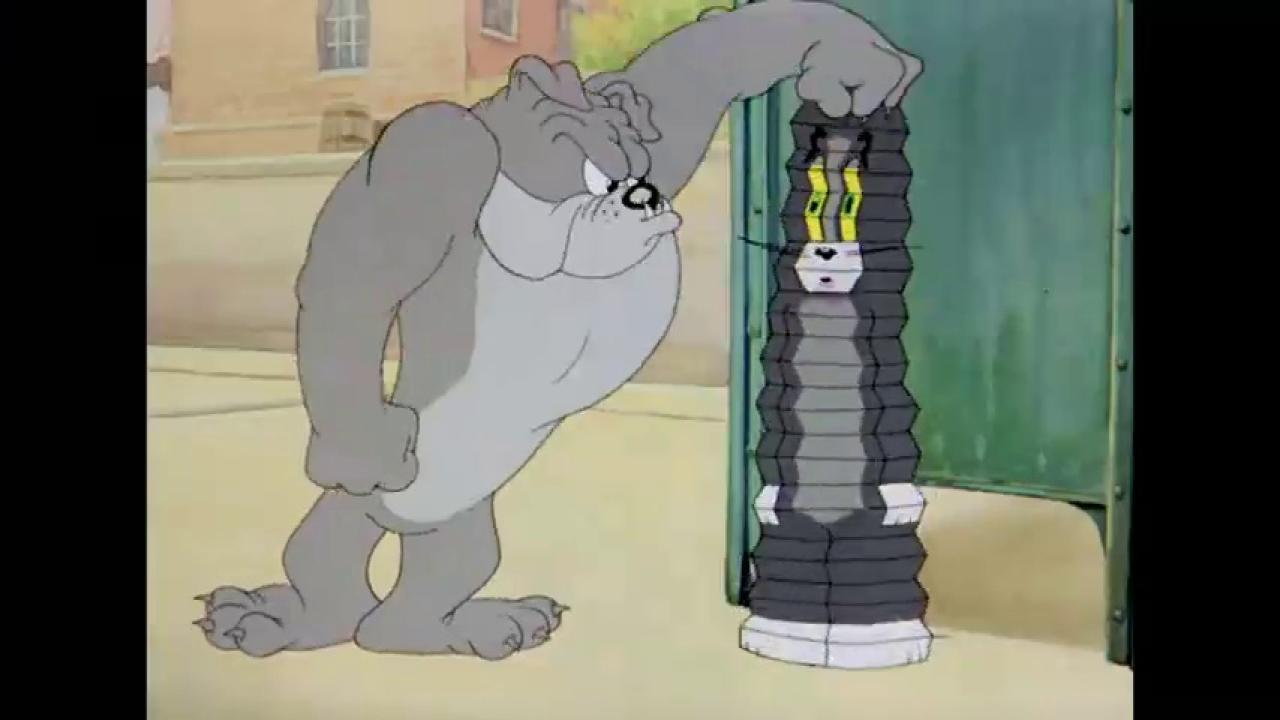Tom: (734, 95, 932, 671)
